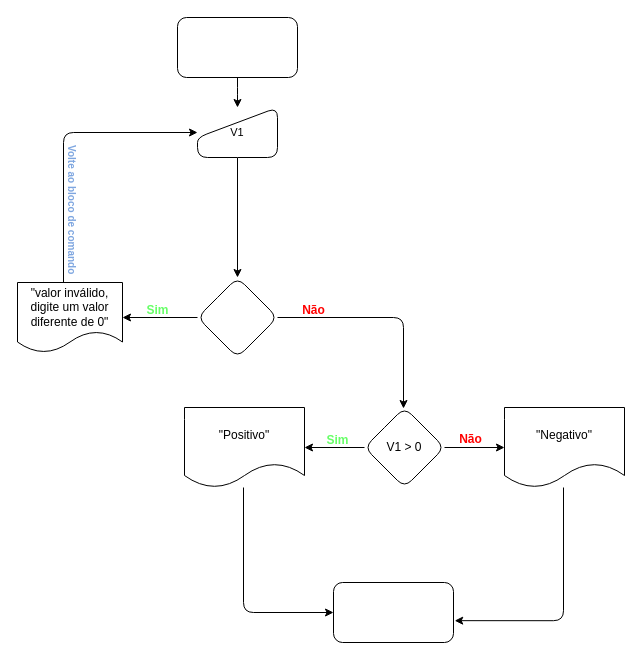
This 642x660 diagram has some shape labels left out. Each missing label, with the centre of its shape:
"FIM" goes at (x=393, y=612).
"Inicio" goes at (x=237, y=47).
"V1 == 0" goes at (x=237, y=317).
